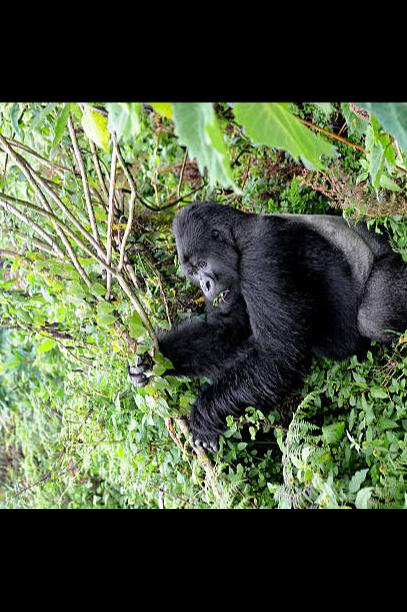goriile_montagne: (141, 195, 407, 443)
